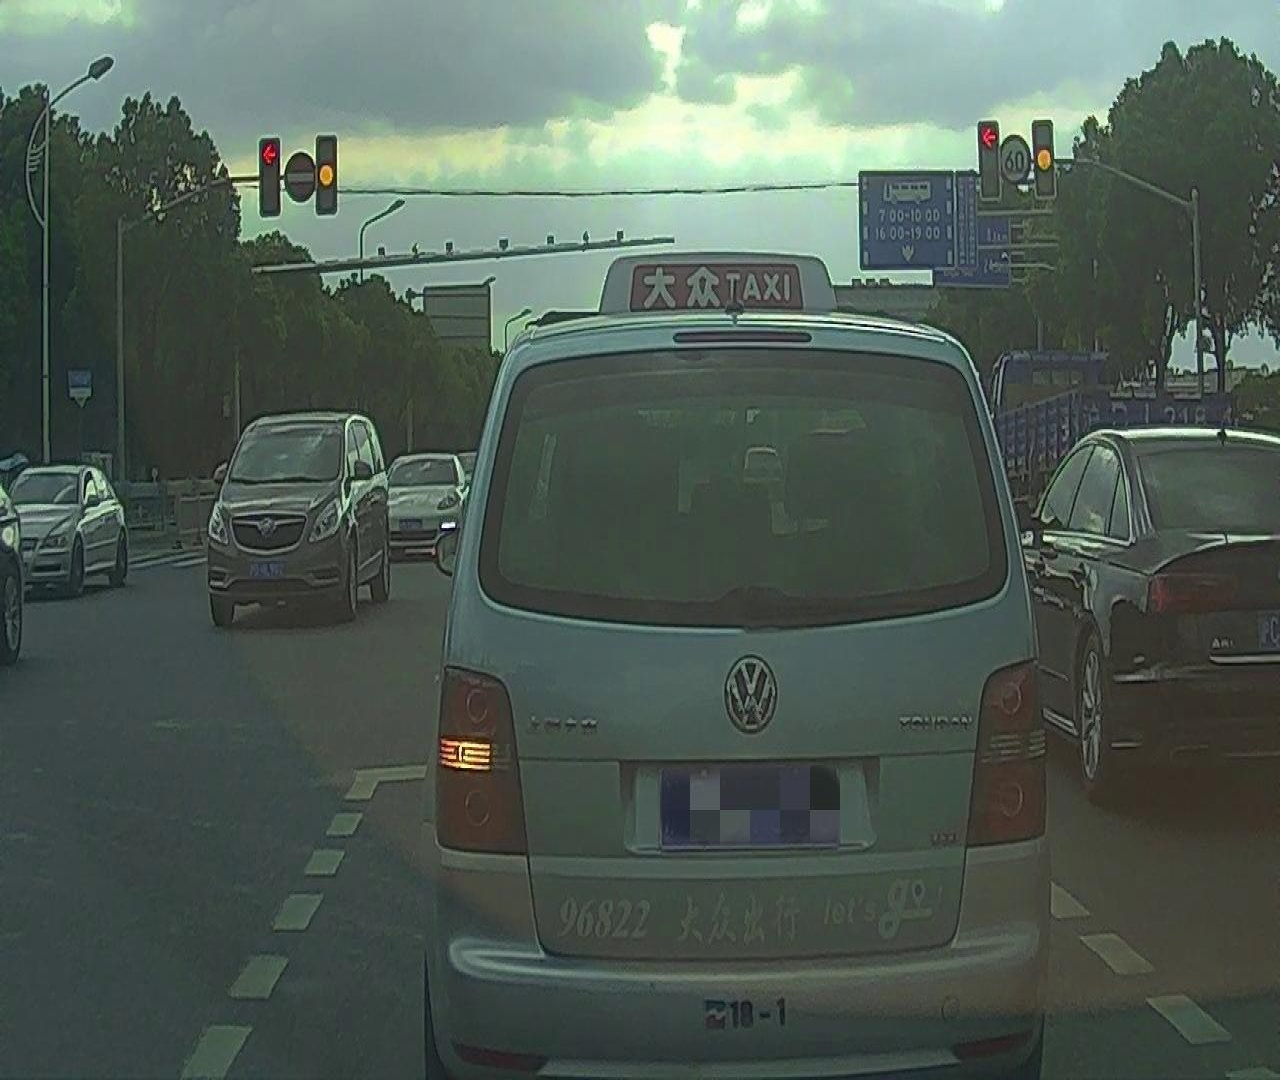red: (258, 138, 283, 216), (981, 118, 1002, 199)
yellow: (1031, 123, 1056, 193), (319, 135, 338, 210)
